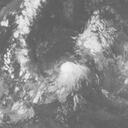cyclone: (50, 61, 91, 94)
